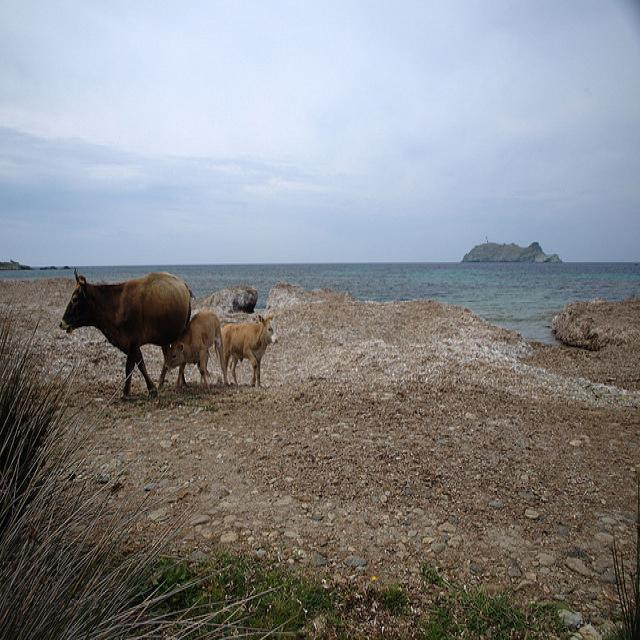cow: (55, 269, 195, 398), (162, 308, 228, 393), (216, 310, 278, 387)
